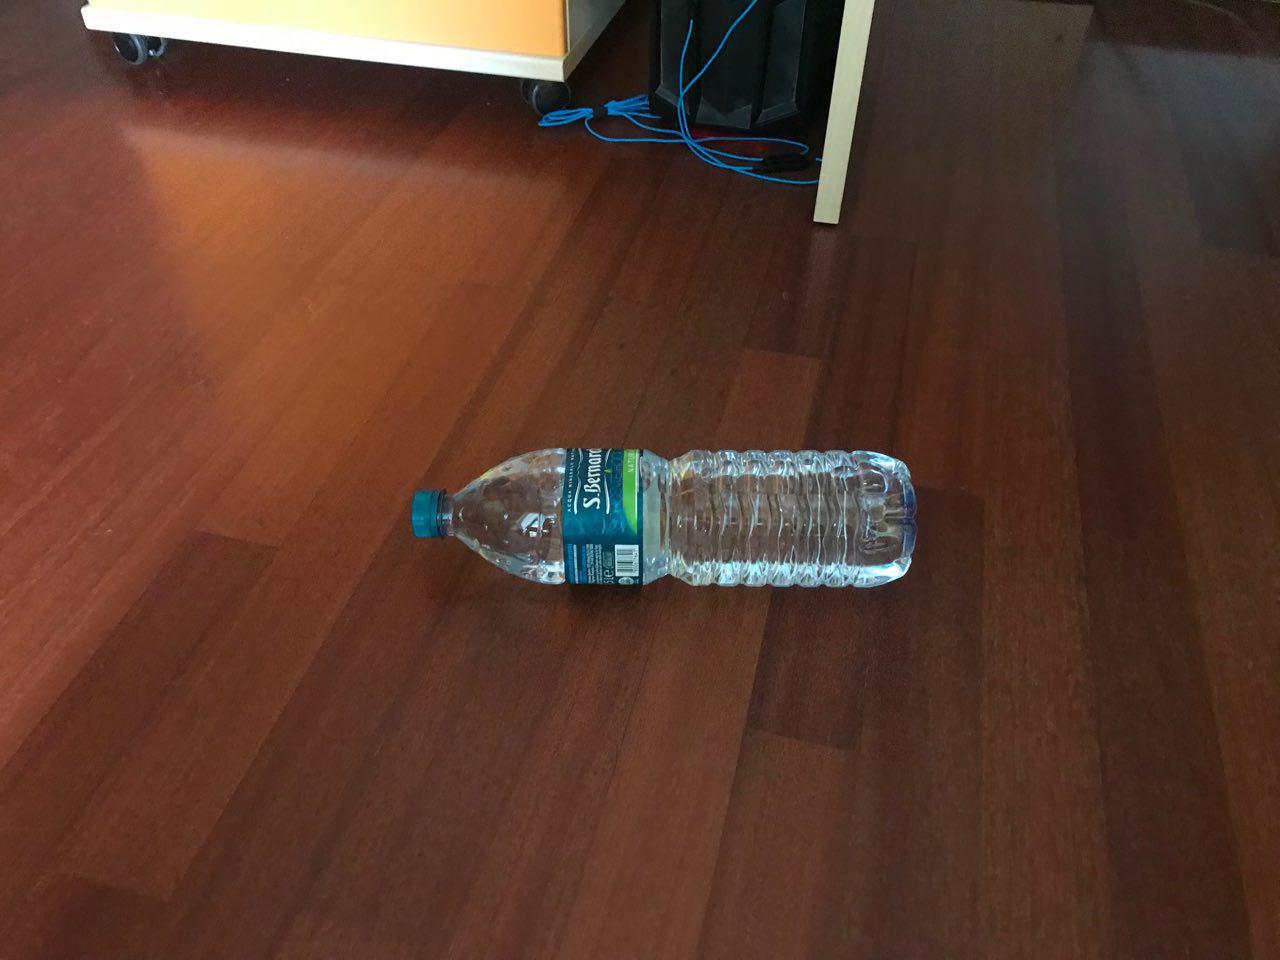san_bernardo: (408, 445, 919, 590)
